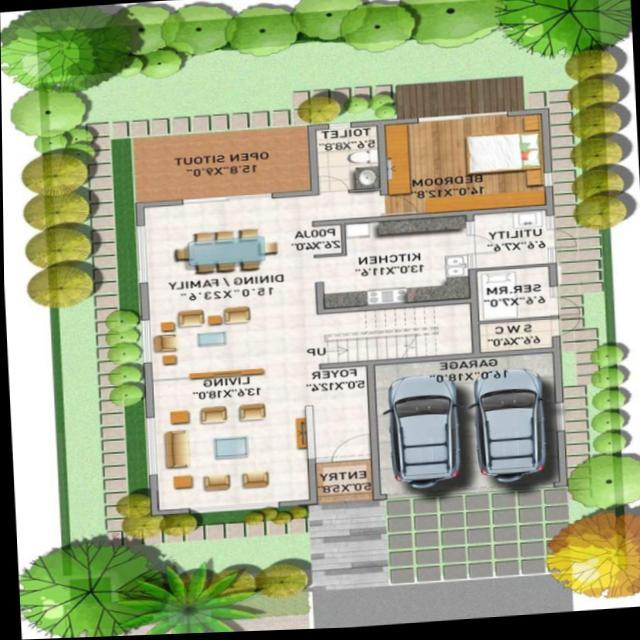Bedroom: (376, 111, 551, 224)
Dining: (160, 216, 287, 301)
Kitchen: (316, 212, 476, 310)
Living: (144, 366, 302, 519)
Toilet: (304, 123, 386, 225)
Utility: (462, 211, 554, 277)
